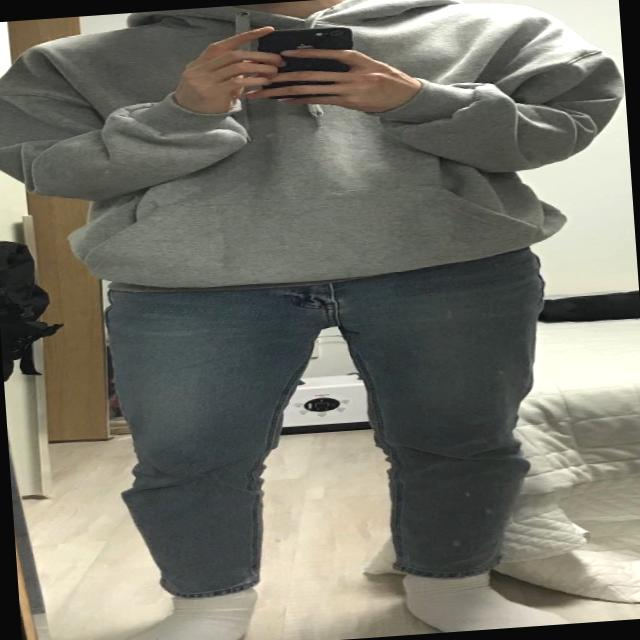denimpants: (101, 247, 568, 604)
hoodies: (0, 0, 621, 309)
